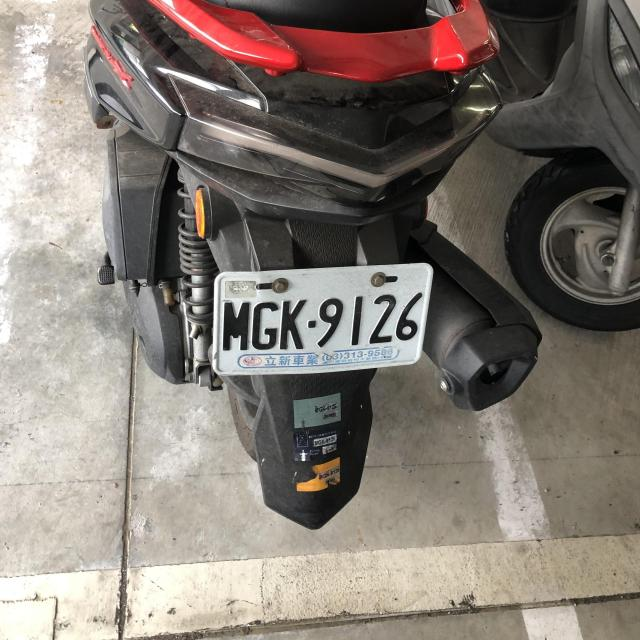W: (210, 264, 432, 378)
